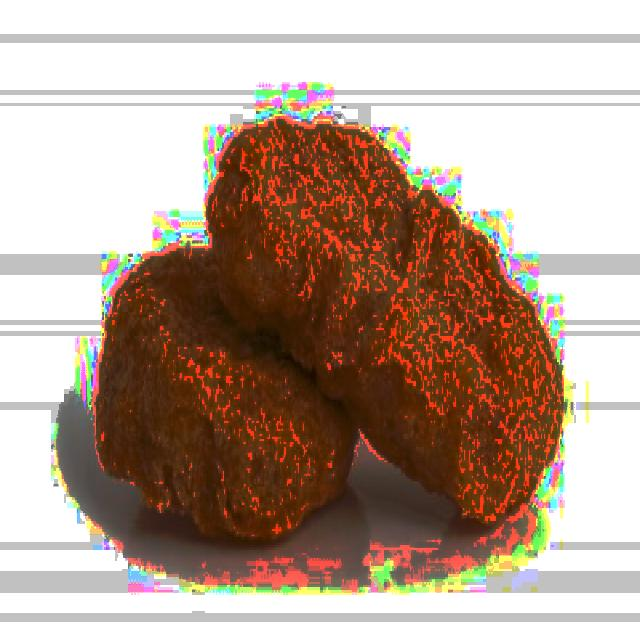chicken_nuggets: (204, 114, 574, 530), (84, 220, 378, 559)
